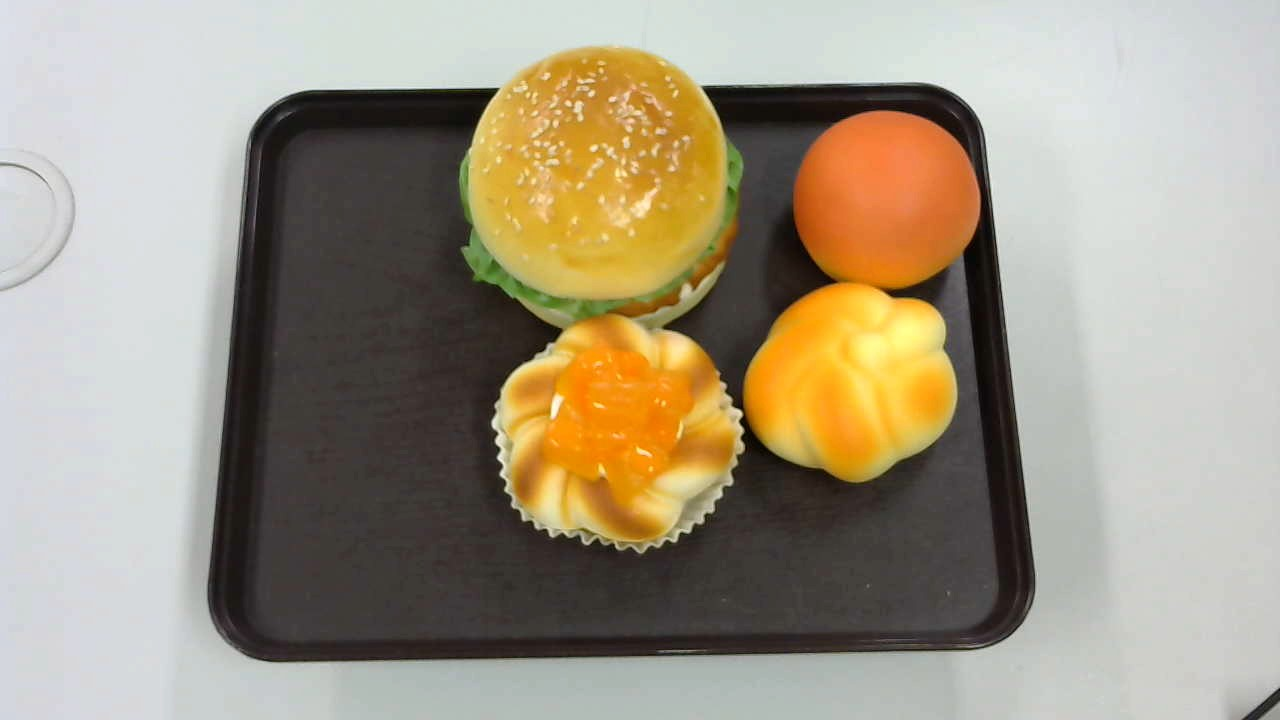bun: (794, 109, 982, 291)
hamburger: (459, 48, 743, 334)
mango tart: (492, 314, 747, 549)
twist bread: (742, 280, 958, 483)
